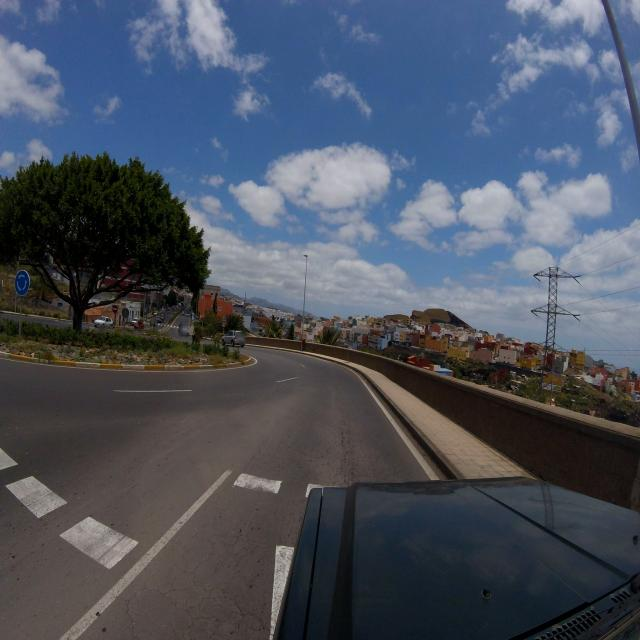car: (220, 329, 246, 349), (93, 316, 114, 329)
